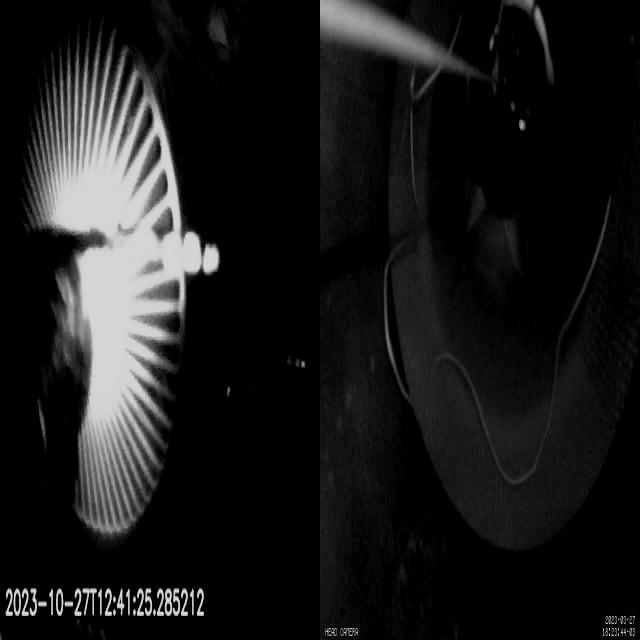white-dots: (163, 233, 220, 276)
